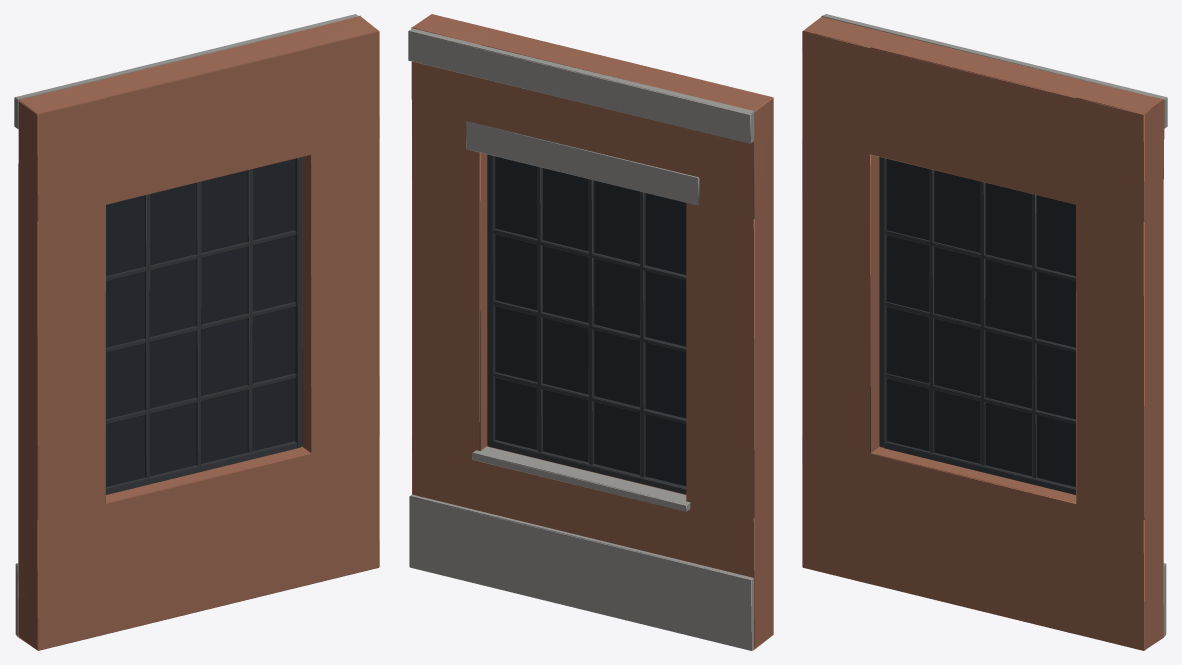
File: SM_VB_FacB_GroundWindow.fbx
The picture shows the model from 3 angles, left to right: view 1: azimuth 30°, elevation 25°; view 2: azimuth 150°, elevation 25°; view 3: azimuth 330°, elevation 25°; orthographic projection.
Visible parts, largest first — view 1: SM_VB_FacB_GroundWindow; view 2: SM_VB_FacB_GroundWindow; view 3: SM_VB_FacB_GroundWindow.
Boxes of the visible parts, <box> form: SM_VB_FacB_GroundWindow: <box>14,14,379,650</box>; SM_VB_FacB_GroundWindow: <box>408,14,773,650</box>; SM_VB_FacB_GroundWindow: <box>802,14,1167,650</box>.
Size of the model in its own units: 3.01 by 4.51 by 0.36.
